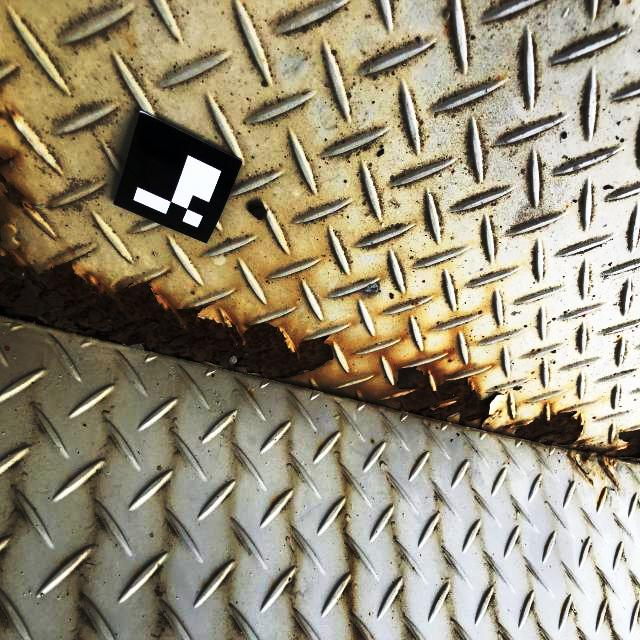Corrosion: (0, 255, 333, 380), (398, 368, 494, 426), (516, 414, 584, 445), (0, 152, 30, 213), (606, 431, 640, 463), (573, 440, 606, 464)
